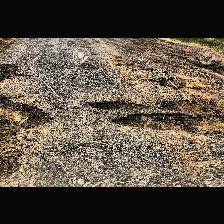pothole: (1, 94, 54, 132), (114, 111, 200, 133), (90, 99, 146, 109), (0, 61, 20, 80)
